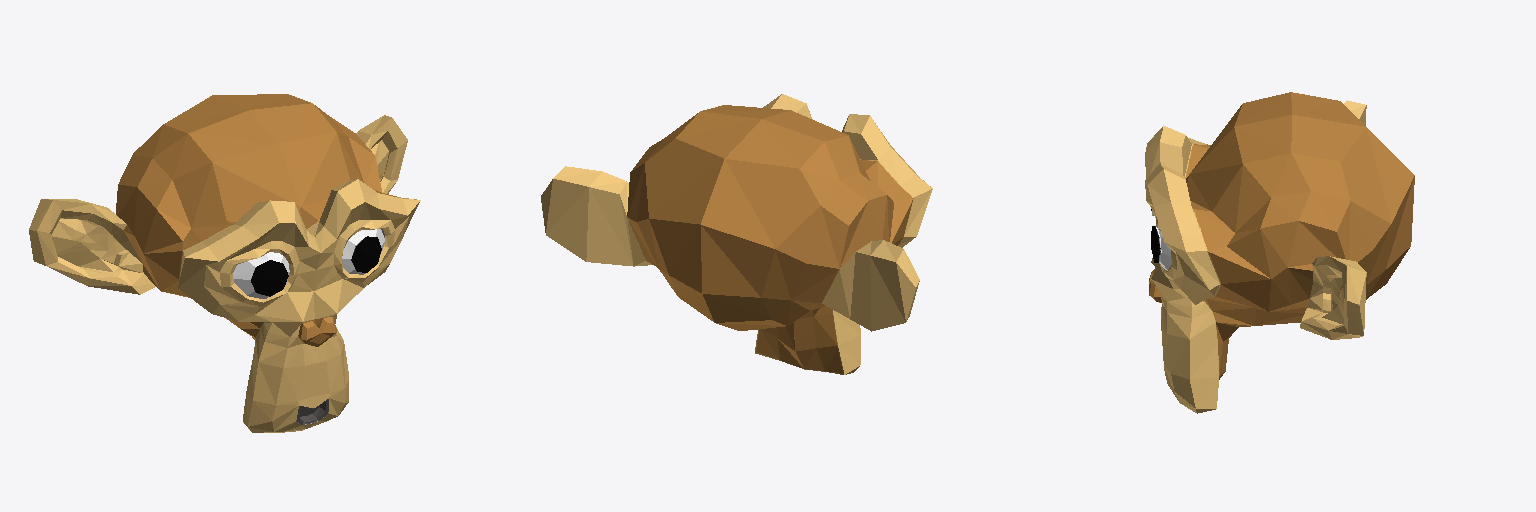
3 views of the same model, side by side, from view 1: azimuth 30°, elevation 25°; view 2: azimuth 150°, elevation 25°; view 3: azimuth 270°, elevation 25° (orthographic).
Parts seen in each view (by area): view 1: Suzanne; view 2: Suzanne; view 3: Suzanne.
Part boxes in pixels (bbox=[...]): Suzanne: bbox=[29, 94, 420, 432]; Suzanne: bbox=[541, 94, 932, 374]; Suzanne: bbox=[1145, 92, 1414, 413].
Size of the model in its own units: 2.73 by 1.97 by 1.7.
1 materials, 1 textured.